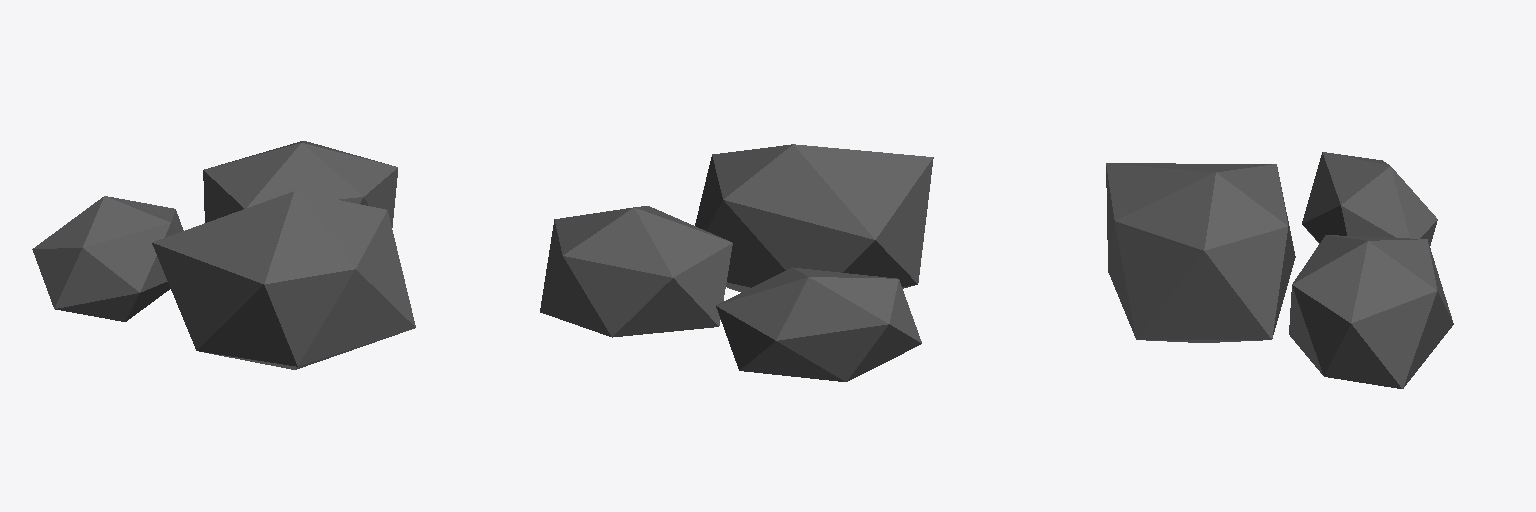
Rendered from stone.obj.
3 views of the same model, side by side, from view 1: azimuth 30°, elevation 25°; view 2: azimuth 150°, elevation 25°; view 3: azimuth 270°, elevation 25° (orthographic).
Parts seen in each view (by area): view 1: Icosphere.004; view 2: Icosphere.004; view 3: Icosphere.004.
Boxes of the visible parts, box(x1,y1,x2,y2) form: Icosphere.004: box(32, 141, 415, 369); Icosphere.004: box(540, 144, 933, 381); Icosphere.004: box(1106, 152, 1453, 388).
Bounding box in the file's own units: 4.63 × 2.15 × 3.91.